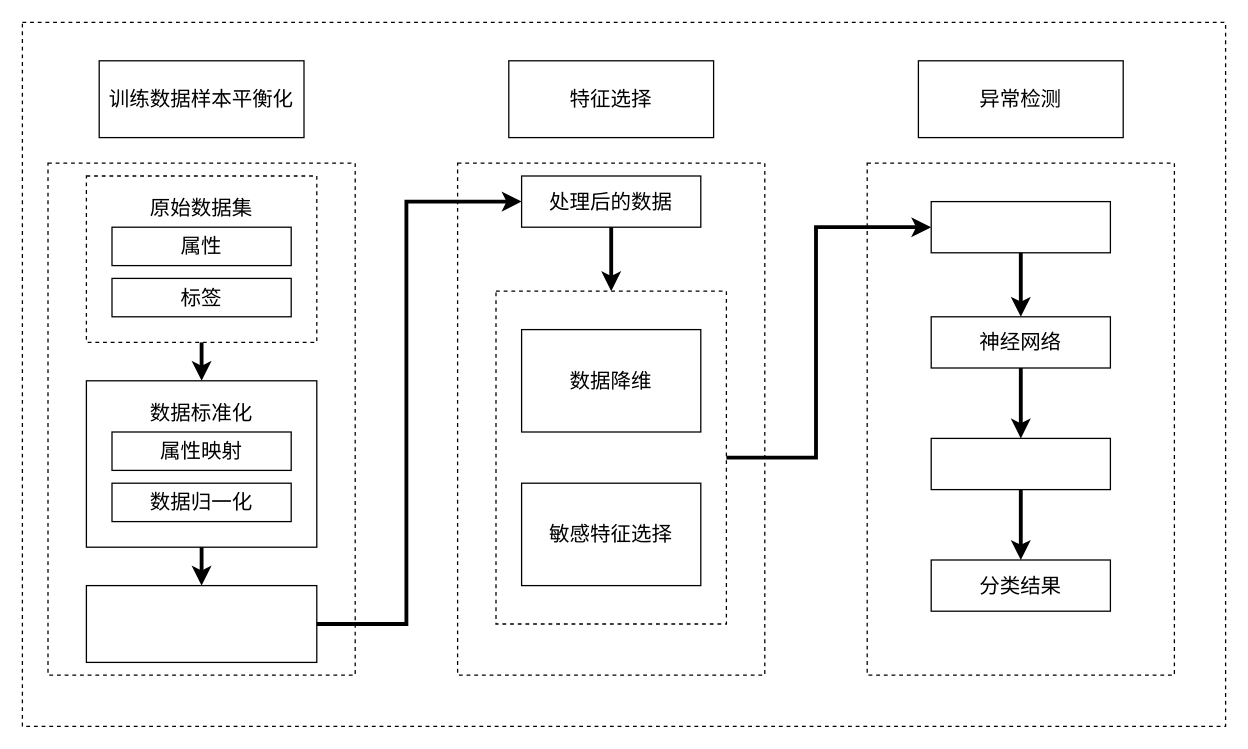
Some shapes in this 1248 by 749 pixel diagram are drawn without their labels. The shapes that lost their labels are listed below. From the top down, each one's centre as x and y in pixels, then its label:
the point at 1020,226: 提取深度特征
the point at 1020,463: 分类器
the point at 201,623: 训练样本平衡化
